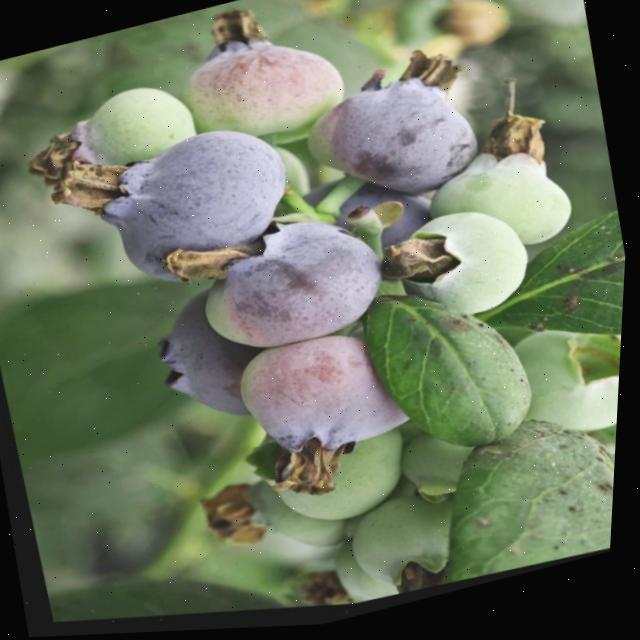RipeBlueBerry: (49, 89, 325, 334), (280, 45, 503, 236)
Semi-RipeBlueBerry: (169, 188, 413, 394), (210, 305, 446, 508), (162, 9, 369, 182)
UnripeBlueBerry: (366, 184, 557, 355), (410, 121, 593, 284), (486, 304, 627, 469)
